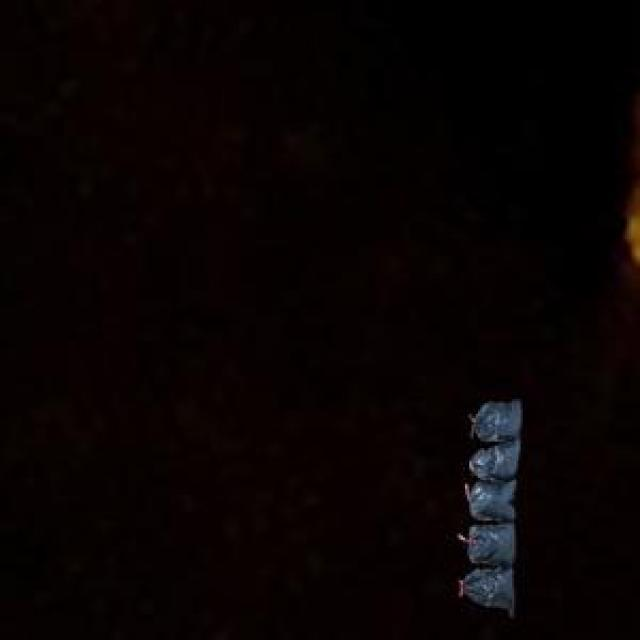Vinyl: (462, 400, 518, 612)
